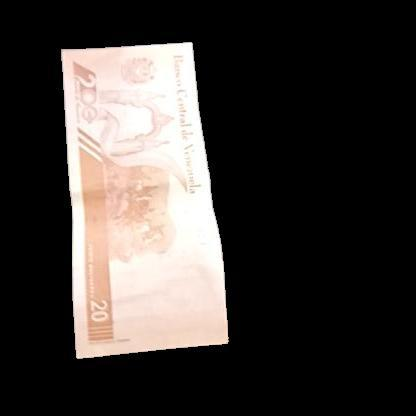twenty-back-vef: (60, 41, 230, 361)
